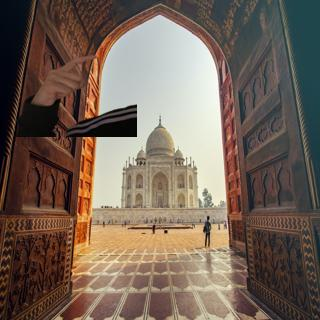WHY: (32, 51, 107, 109)
